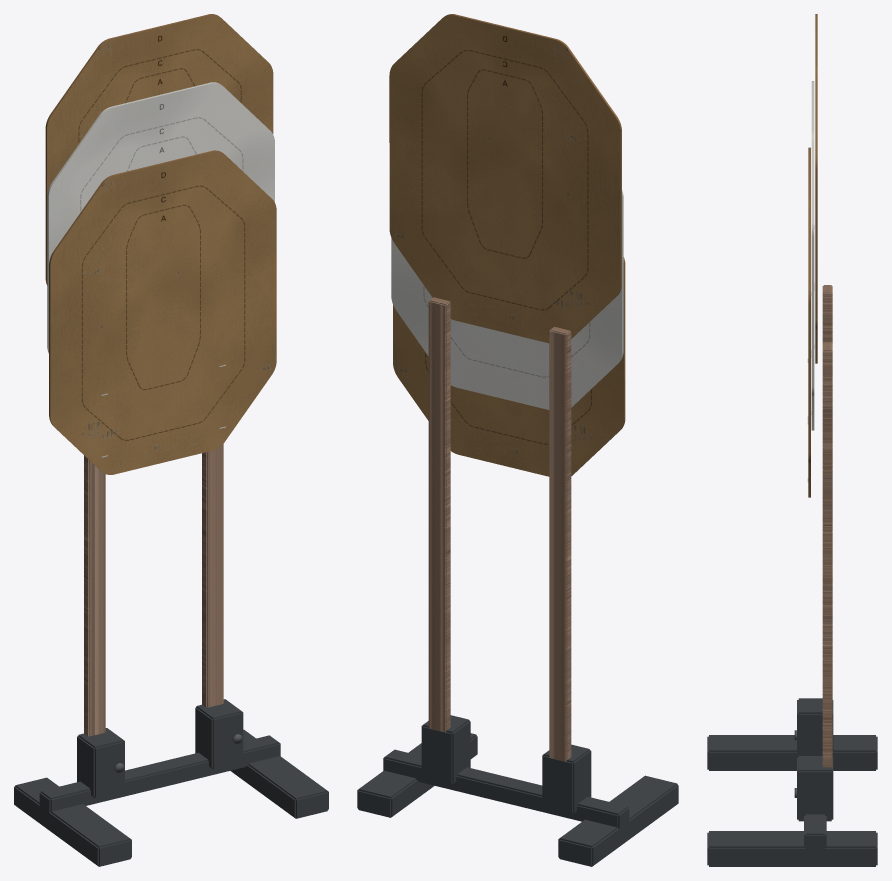
The model's file is obj_paper_stack.glb.
3 views of the same model, side by side, from view 1: azimuth 30°, elevation 25°; view 2: azimuth 150°, elevation 25°; view 3: azimuth 270°, elevation 25° (orthographic). The views are drawn at different scales.
Parts seen in each view (by area): view 1: card.002, paper_stack_body, card, card.001; view 2: card, paper_stack_body, card.002, card.001; view 3: paper_stack_body, card.001, card.002, card.
Part boxes in pixels (x1,y1,x2,y2): card.002: (49,150,276,474); paper_stack_body: (14,444,328,866); card: (45,14,273,285); card.001: (47,82,274,353); card: (389,14,621,343); paper_stack_body: (357,297,678,866); card.002: (393,257,625,476); card.001: (391,190,623,409); paper_stack_body: (707,285,877,866); card.001: (811,81,814,430); card.002: (808,147,810,497); card: (815,14,817,363).
Size of the model in its own units: 0.47 by 1.5 by 0.3.
7 materials, 3 textured.
